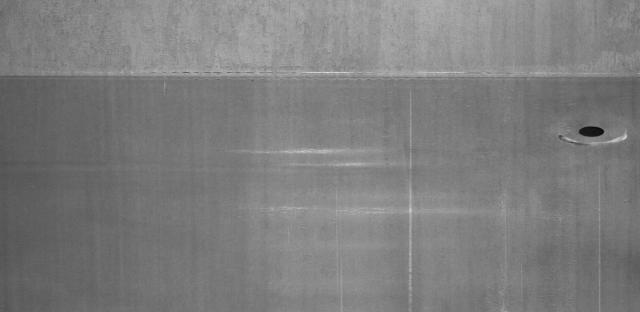punching_hole: (575, 123, 607, 141)
welding_line: (5, 63, 637, 88)
